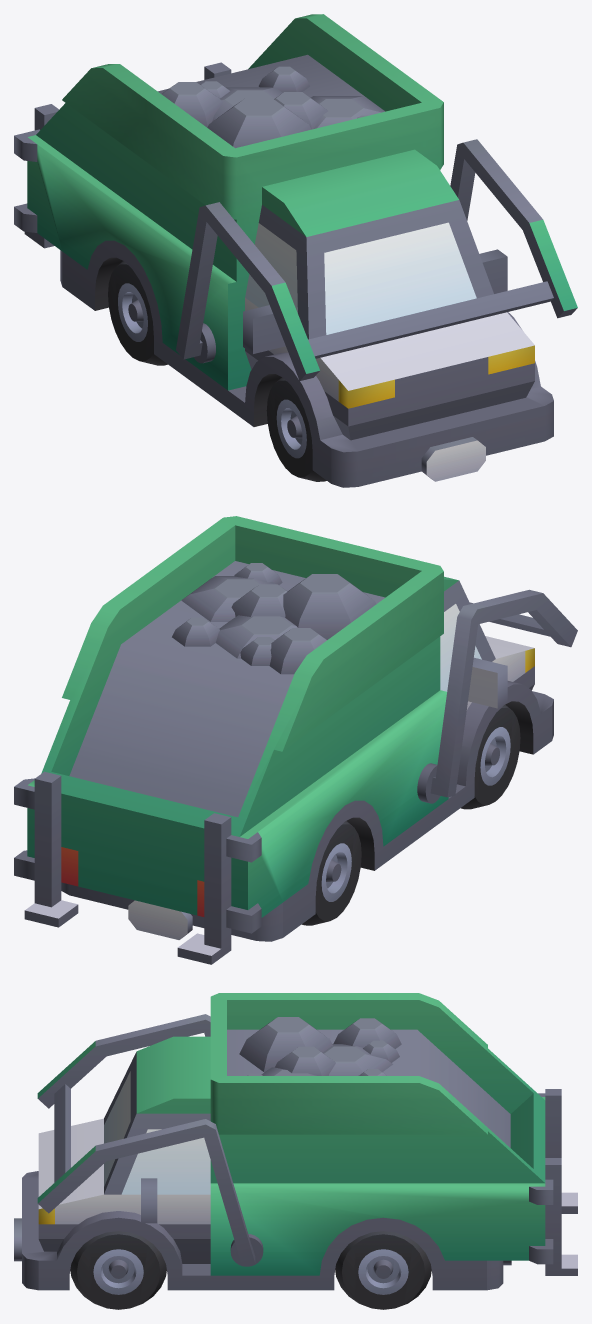
The model's file is garbage_truck.glb.
The picture shows the model from 3 angles, top to bottom: view 1: azimuth 30°, elevation 25°; view 2: azimuth 150°, elevation 25°; view 3: azimuth 270°, elevation 25°; orthographic projection. The views are drawn at different scales.
Parts seen in each view (by area): view 1: arm; view 2: arm; view 3: arm.
Part boxes in pixels (bbox=[...]): arm: bbox=[14, 14, 577, 487]; arm: bbox=[14, 516, 577, 964]; arm: bbox=[14, 993, 577, 1309].
Size of the model in its own units: 1.6 by 1.6 by 3.45.
1 material, 1 textured.
